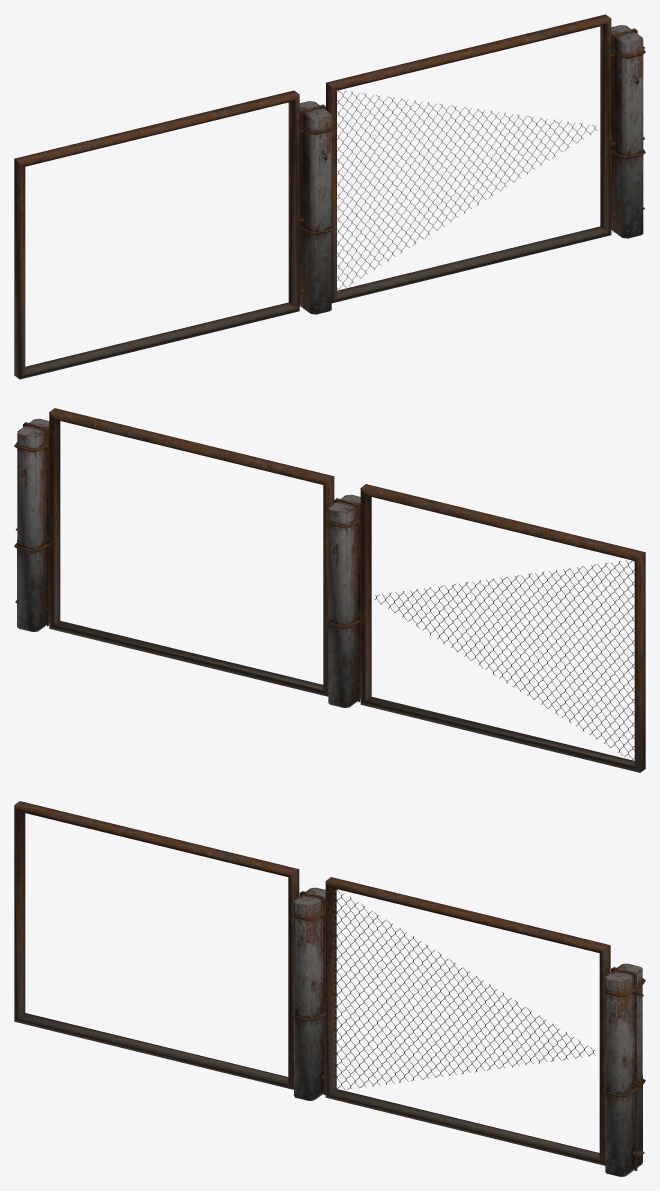
Rendered from chainlink.glb.
3 renders of one model, top to bottom at view 1: azimuth 30°, elevation 25°; view 2: azimuth 150°, elevation 25°; view 3: azimuth 330°, elevation 25°, orthographic.
Visible parts, largest first — view 1: Object_5, Object_4; view 2: Object_5, Object_4; view 3: Object_5, Object_4.
Part boxes in pixels (x1,y1,x2,y2): Object_5: [14, 14, 645, 379]; Object_4: [337, 90, 597, 292]; Object_5: [14, 408, 645, 772]; Object_4: [374, 560, 634, 762]; Object_5: [14, 801, 645, 1176]; Object_4: [333, 889, 595, 1091].
Bounding box in the file's own units: 6.03 × 2 × 0.4718.
2 materials, 2 textured.
